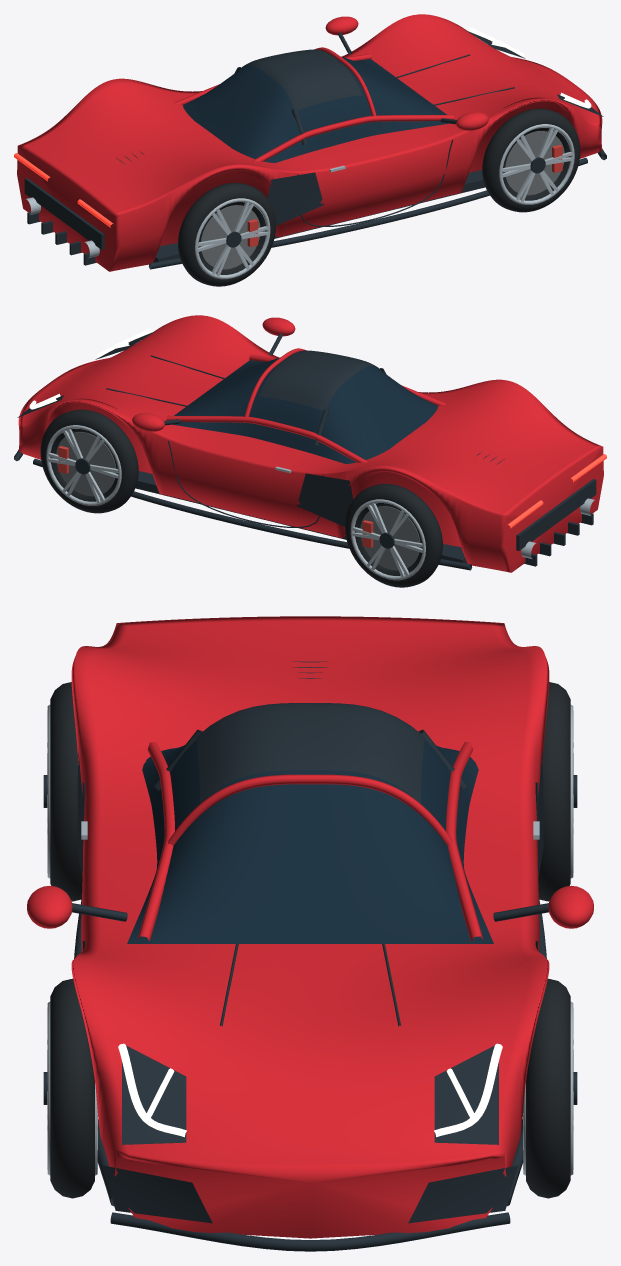
File: car20.glb
The picture shows the model from 3 angles, top to bottom: view 1: azimuth 30°, elevation 25°; view 2: azimuth 150°, elevation 25°; view 3: azimuth 270°, elevation 25°; orthographic projection. The views are drawn at different scales.
Visible parts, largest first — view 1: continuous-sculpted-body, CAR20, curved-windows, roof-panel; view 2: continuous-sculpted-body, CAR20, curved-windows, roof-panel; view 3: continuous-sculpted-body, CAR20, curved-windows, roof-panel.
Part boxes in pixels (x1,y1,x2,y2): continuous-sculpted-body: [17, 14, 602, 271]; CAR20: [14, 16, 606, 286]; curved-windows: [183, 52, 448, 162]; roof-panel: [239, 49, 361, 110]; continuous-sculpted-body: [18, 315, 603, 572]; CAR20: [14, 317, 606, 587]; curved-windows: [172, 353, 437, 463]; roof-panel: [259, 350, 381, 411]; continuous-sculpted-body: [71, 616, 549, 1238]; CAR20: [27, 661, 593, 1251]; curved-windows: [127, 740, 493, 943]; roof-panel: [196, 703, 424, 803].
Bounding box in the file's own units: 4.72 × 1.26 × 2.22.
